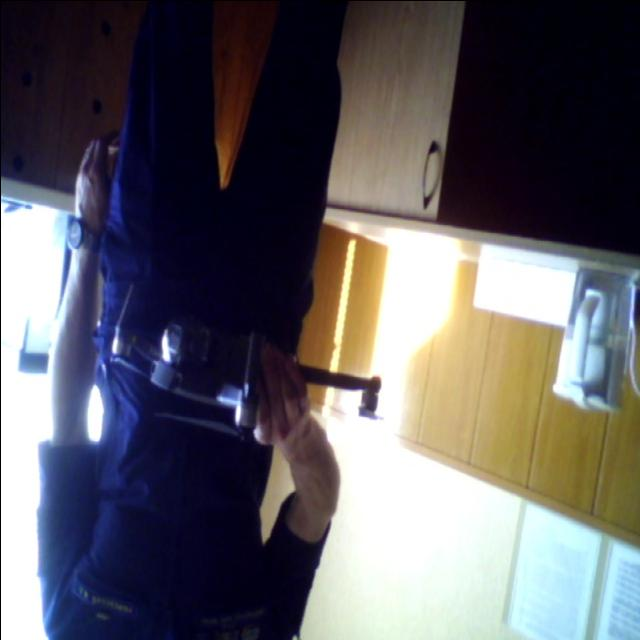drone: (83, 270, 395, 453)
